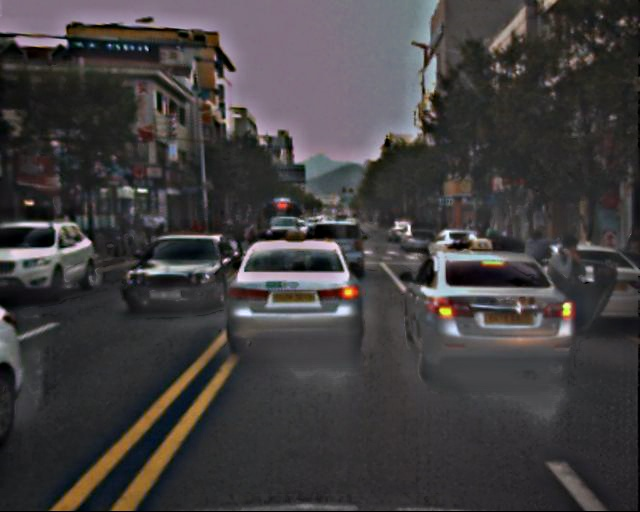person: (543, 237, 587, 344), (515, 226, 550, 312), (115, 204, 161, 247), (231, 213, 248, 255)
